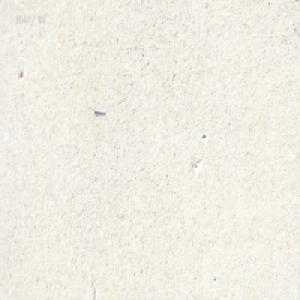Nail: (92, 106, 105, 114)
